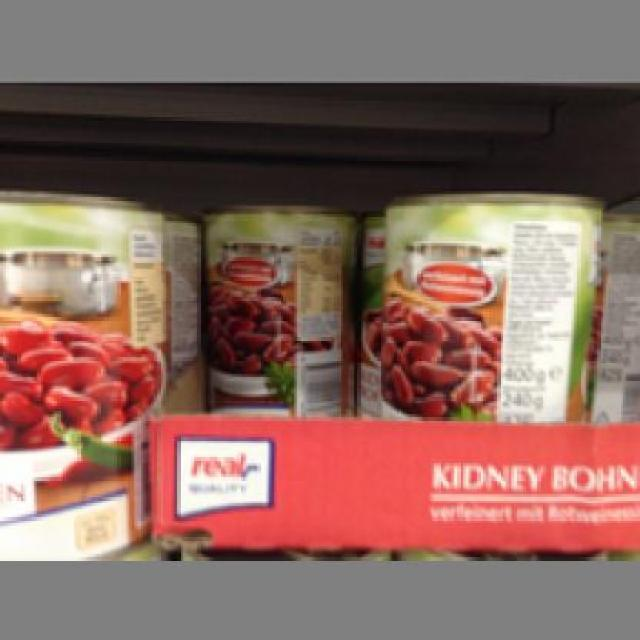Beans: (0, 181, 175, 555), (377, 194, 606, 426), (194, 194, 360, 414)
